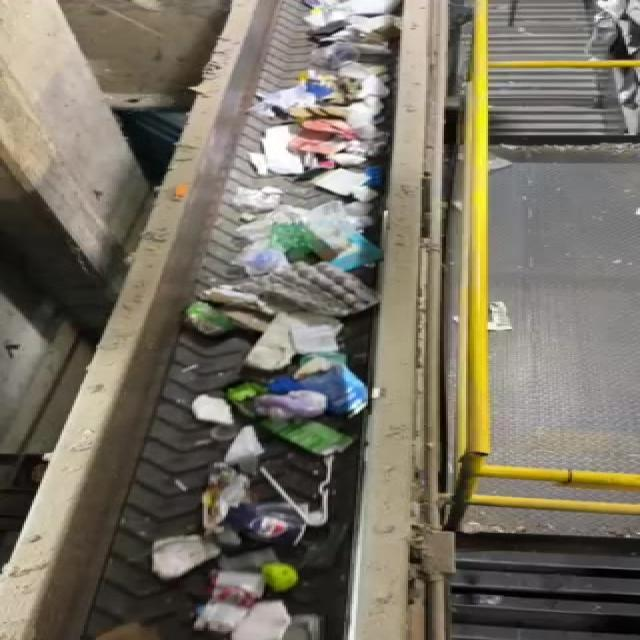metal: (204, 492, 322, 552)
paper: (150, 531, 226, 580), (212, 427, 274, 481), (176, 392, 242, 432)
pp: (207, 562, 265, 640)
